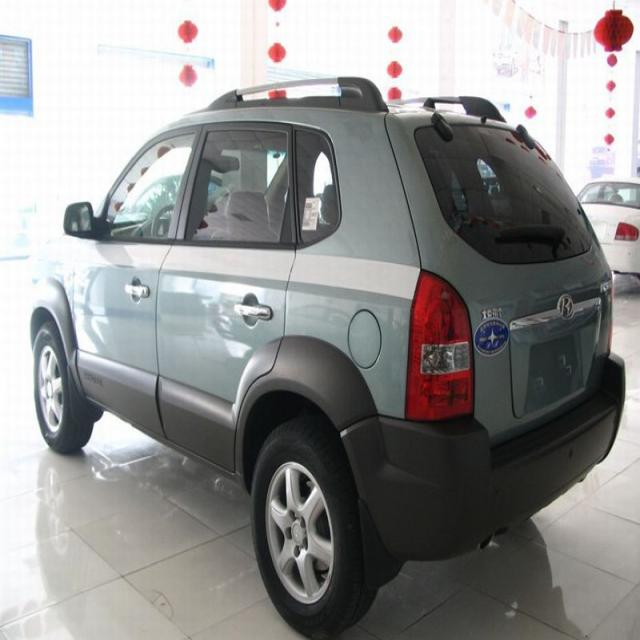back_glass: (413, 116, 596, 269)
back_left_side_light: (401, 267, 480, 423)
door: (159, 124, 302, 446)
front_left_side_door: (66, 121, 211, 448)
front_left_side_mirror: (61, 199, 105, 247)
rear_bumper: (345, 351, 629, 567)
wheel: (246, 422, 368, 634), (33, 326, 85, 453)
